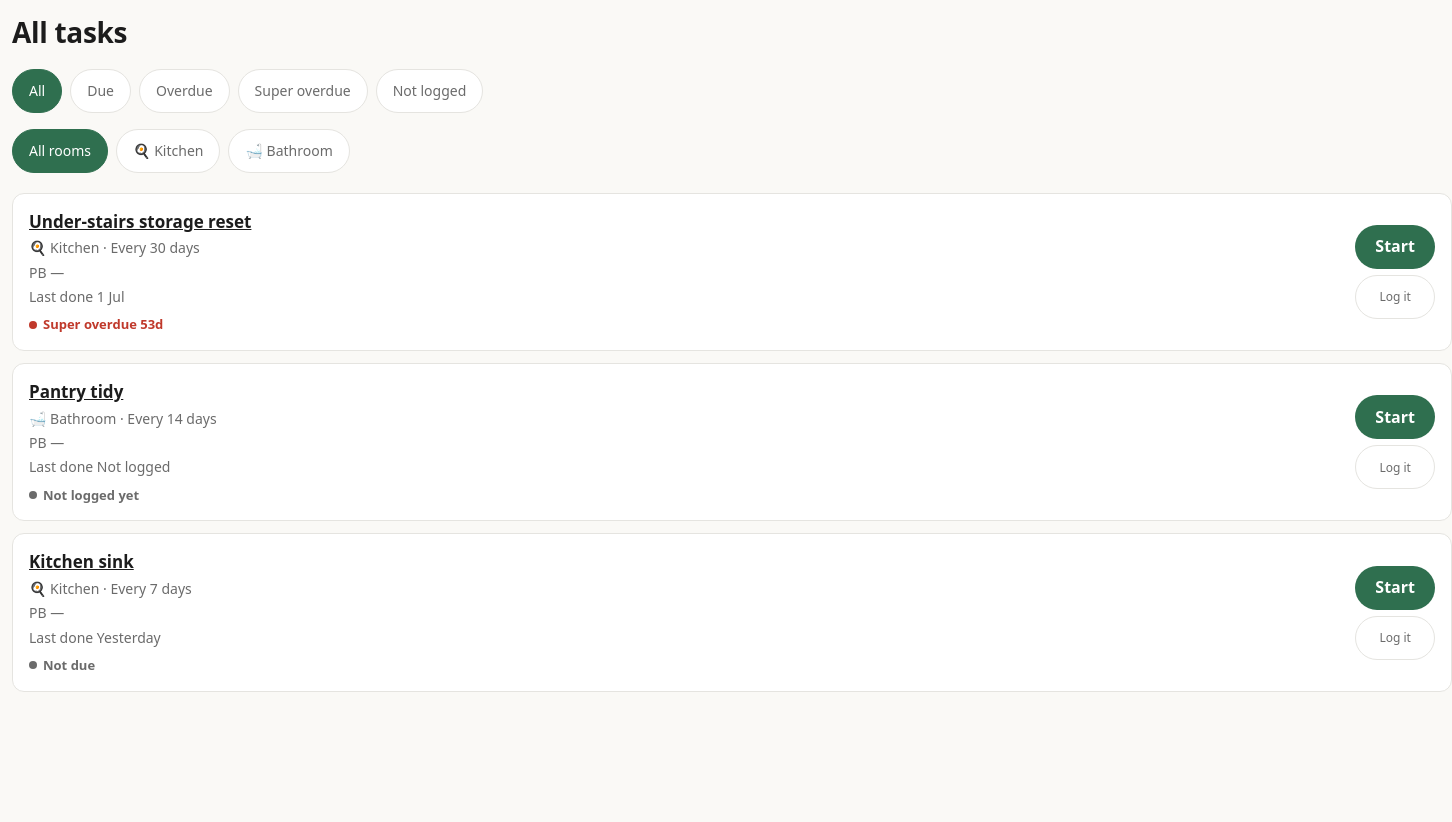
Test: Tasks page › filters by room
The image size is (1452, 822).
Expected: the link "Under-stairs storage reset" is shown, [29,210,251,233]
Click the button "🛁 Bathroom": (289, 151) [228,129,350,173]
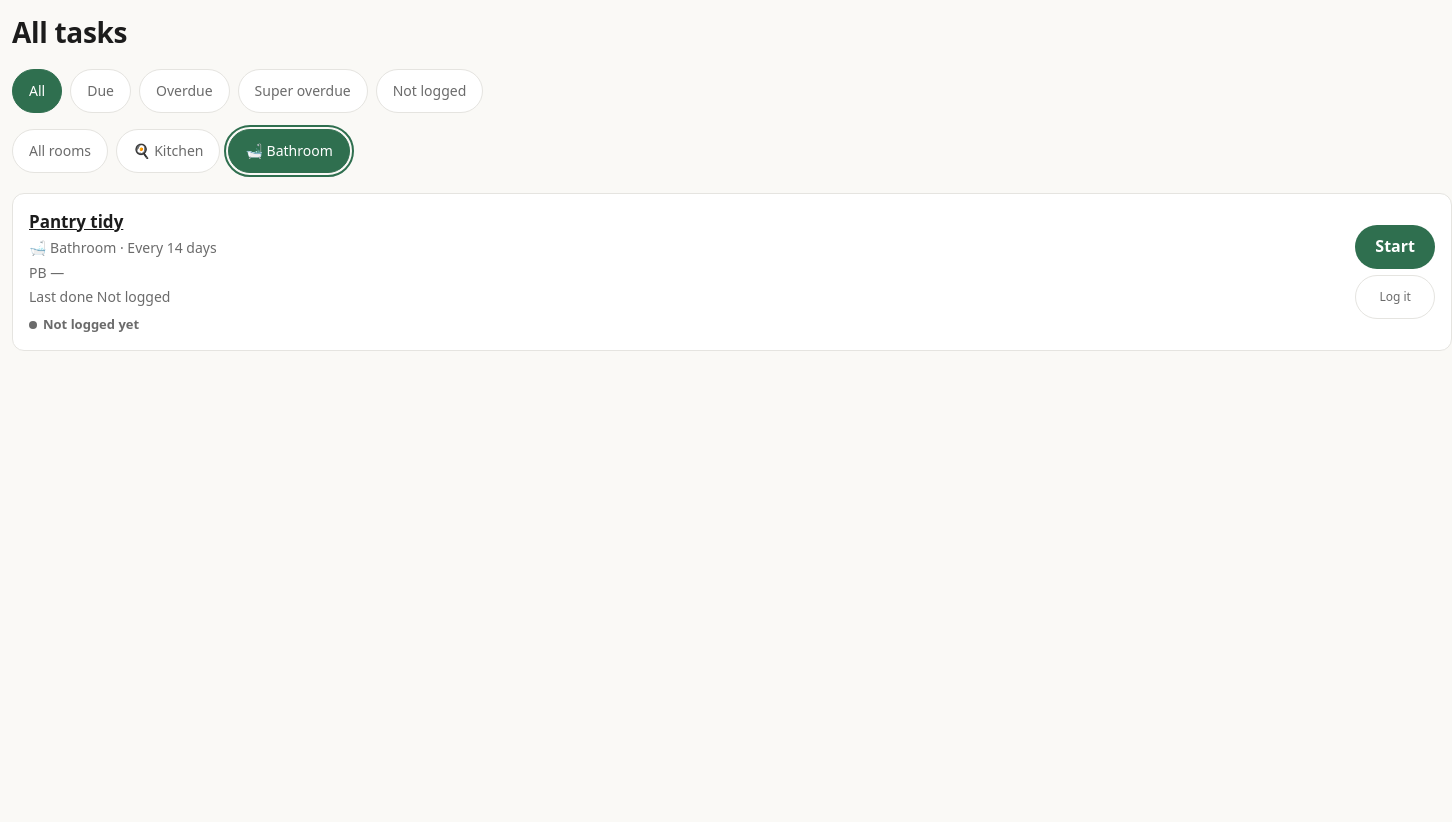
Expected: the link "Pantry tidy" is shown, [29,210,123,233]
Result: the link "Under-stairs storage reset" is gone
Result: the link "Kitchen sink" is gone
